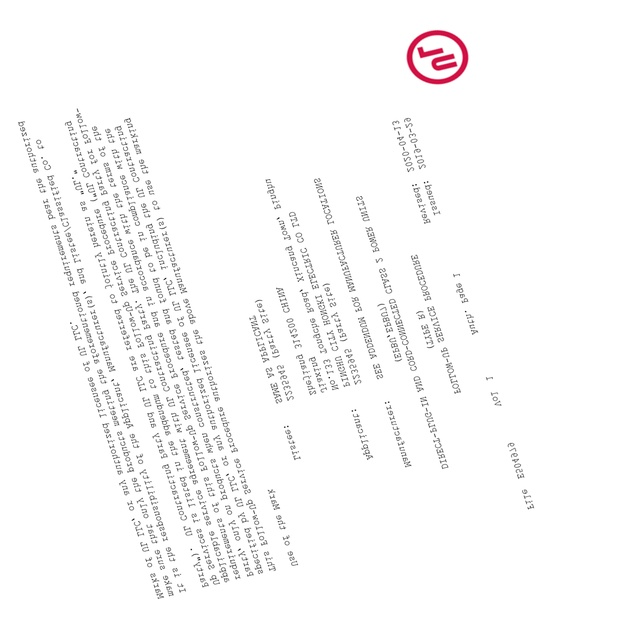ul: (403, 28, 469, 86)
